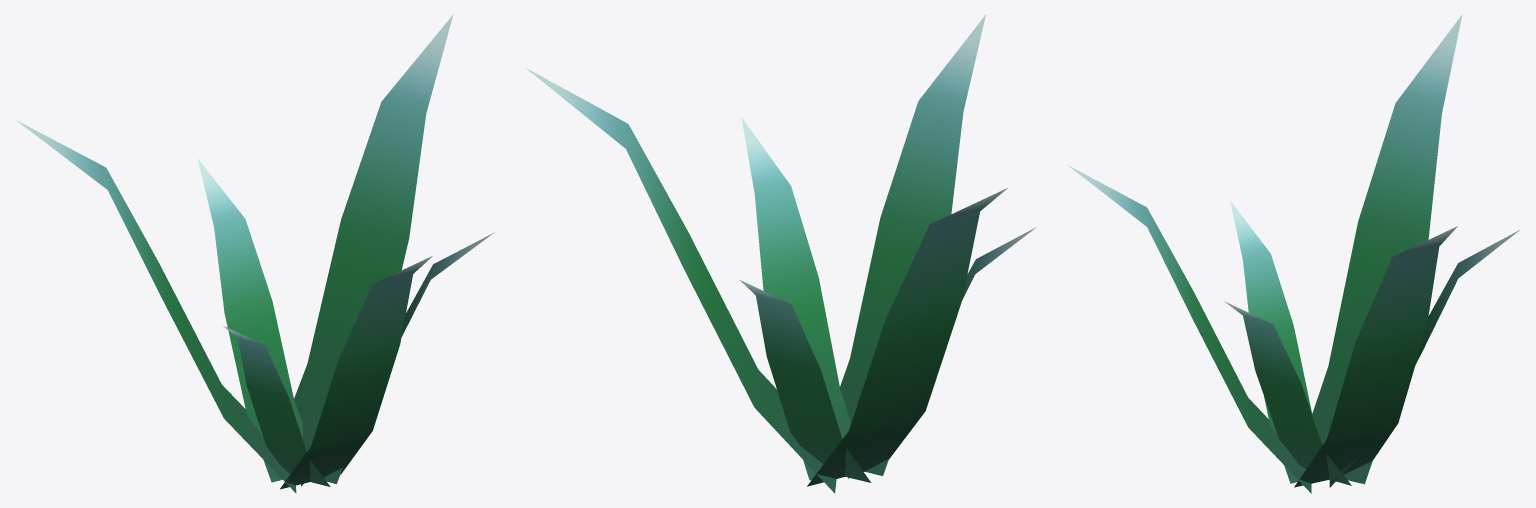
File: SM_Env_Fern_01.fbx
3 views of the same model, side by side, from view 1: azimuth 30°, elevation 25°; view 2: azimuth 150°, elevation 25°; view 3: azimuth 270°, elevation 25° (orthographic). The views are drawn at different scales.
Visible parts, largest first — view 1: SM_Env_Fern_01; view 2: SM_Env_Fern_01; view 3: SM_Env_Fern_01.
Boxes of the visible parts, x1,y1,x2,y2 form: SM_Env_Fern_01: (16,14,494,493); SM_Env_Fern_01: (525,14,1036,493); SM_Env_Fern_01: (1068,14,1520,493).
Size of the model in its own units: 189 by 149 by 172.
